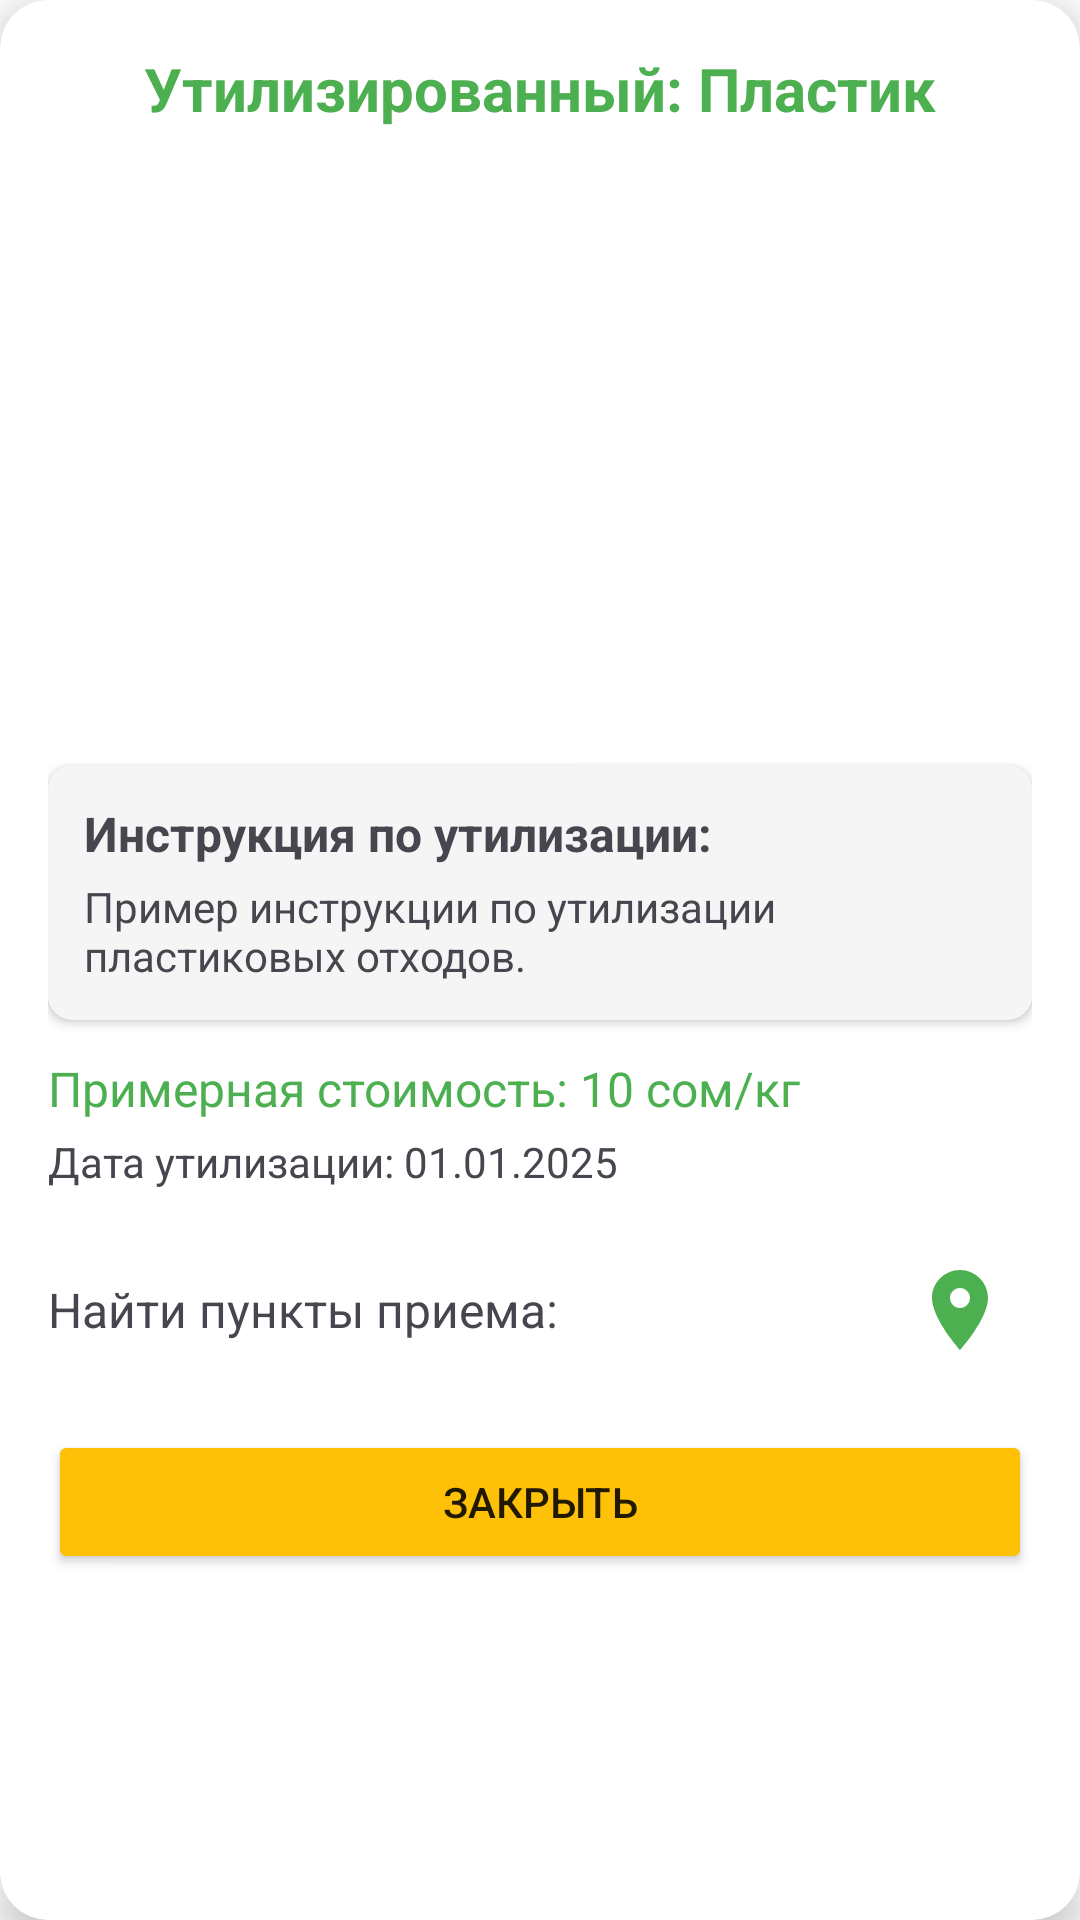

Where to tap for icons on this 1080x1920 app screen, as [x,y]:
Открыть карту: [960,1310]
